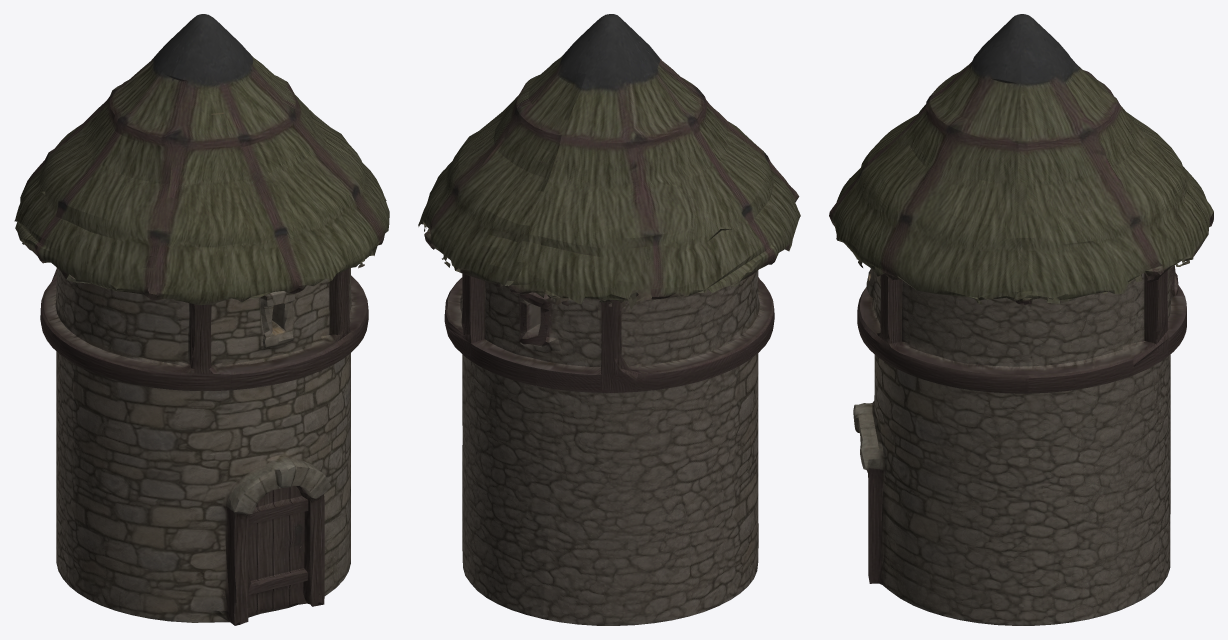
File: ok-farm-silo-meshy.glb
3 views of the same model, side by side, from view 1: azimuth 30°, elevation 25°; view 2: azimuth 150°, elevation 25°; view 3: azimuth 270°, elevation 25° (orthographic).
Size of the model in its own units: 1.2 by 1.89 by 1.2.
Materials: 1 (1 with a texture image).
